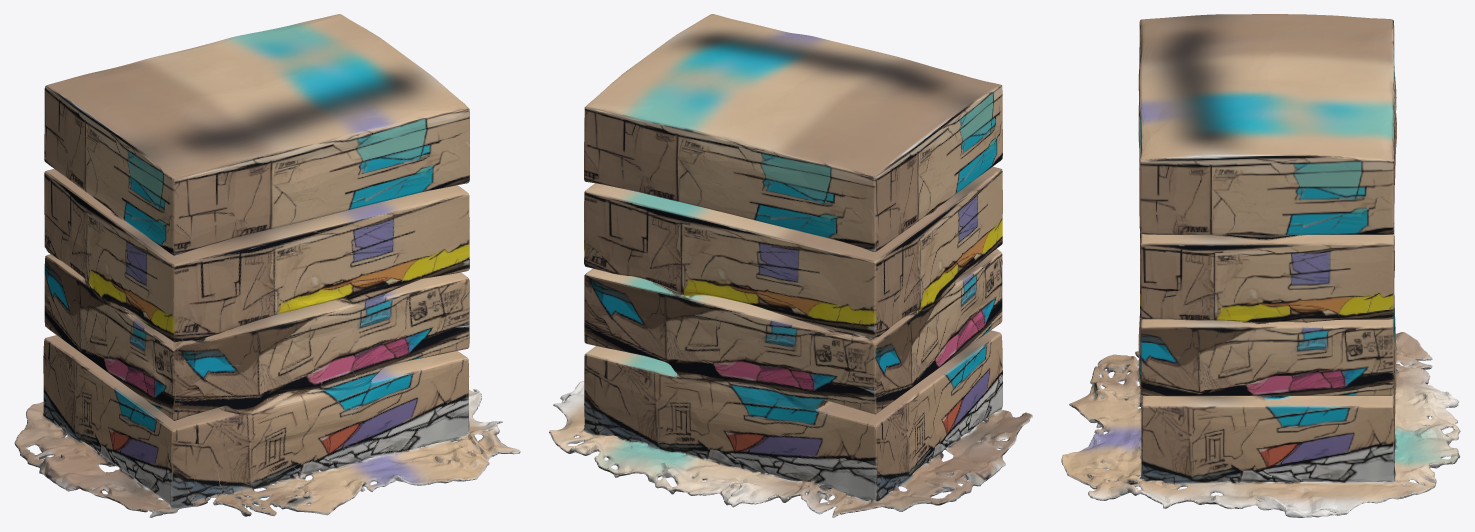
Rendered from boxes.glb.
The picture shows the model from 3 angles, left to right: view 1: azimuth 30°, elevation 25°; view 2: azimuth 150°, elevation 25°; view 3: azimuth 270°, elevation 25°; orthographic projection. The views are drawn at different scales.
Parts seen in each view (by area): view 1: boxes; view 2: boxes; view 3: boxes.
Boxes of the visible parts, x1,y1,x2,y2 form: boxes: (14, 14, 520, 517); boxes: (549, 14, 1032, 517); boxes: (1061, 14, 1460, 517).
Bounding box in the file's own units: 1.33 × 1.09 × 1.14.
Materials: 1 (1 with a texture image).
